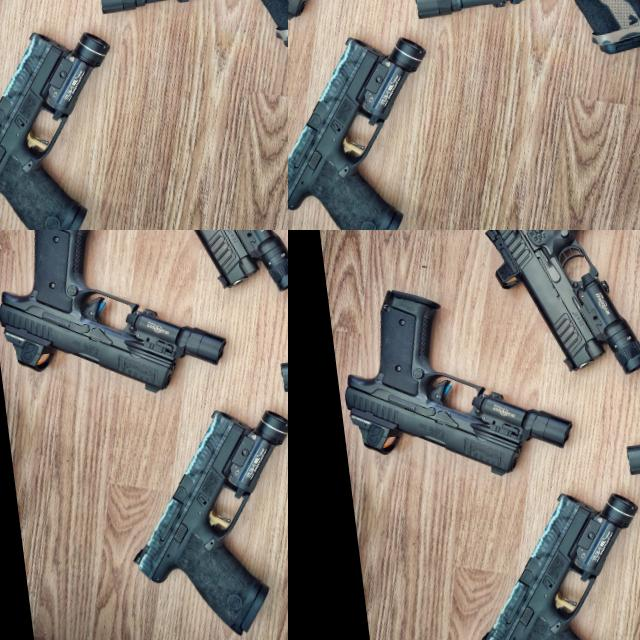handgun: (0, 342, 223, 630), (327, 271, 528, 494), (456, 486, 627, 640), (471, 230, 640, 380), (0, 87, 31, 141)
